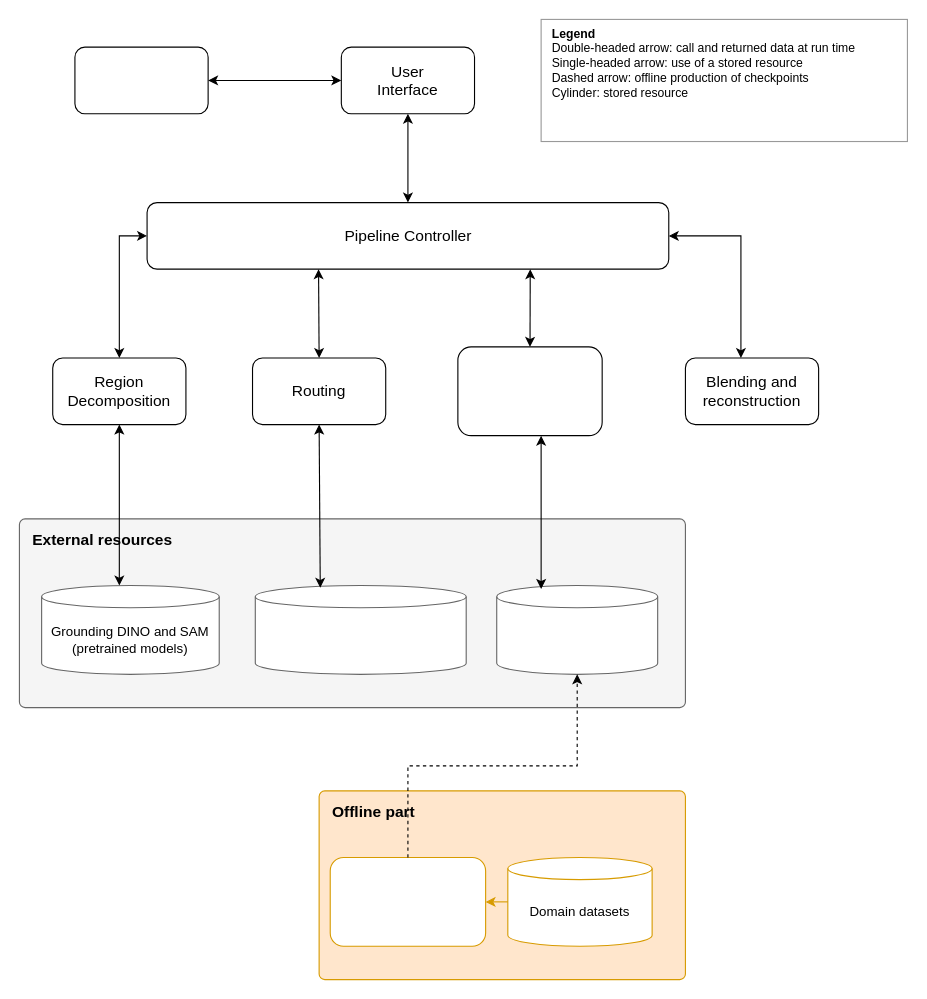
Image size: 927x999. Some labels were removed from this diagram. The shapes that lost their labels are listed below. From the top down, each one's centre as x and y in pixels, then its label:
At pixel 141 80: "User".
At pixel 529 391: "Region Extraction and colorization".
At pixel 360 629: "Domain definitions and parameters (prompt set, label mapping)".
At pixel 577 629: "Expert checkpoints and fallback DDColor-T".
At pixel 407 901: "Training and Evaluation (fine-tuning, metrics)".
